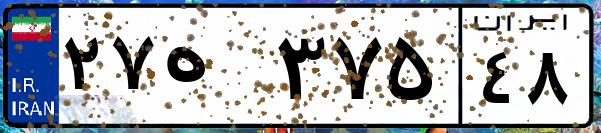2: (57, 26, 110, 100)
3: (270, 28, 330, 110)
4: (475, 38, 525, 113)
5: (385, 28, 445, 110)
7: (330, 28, 385, 110), (110, 28, 158, 98)
8: (525, 38, 570, 115)
ه: (158, 20, 270, 120)
